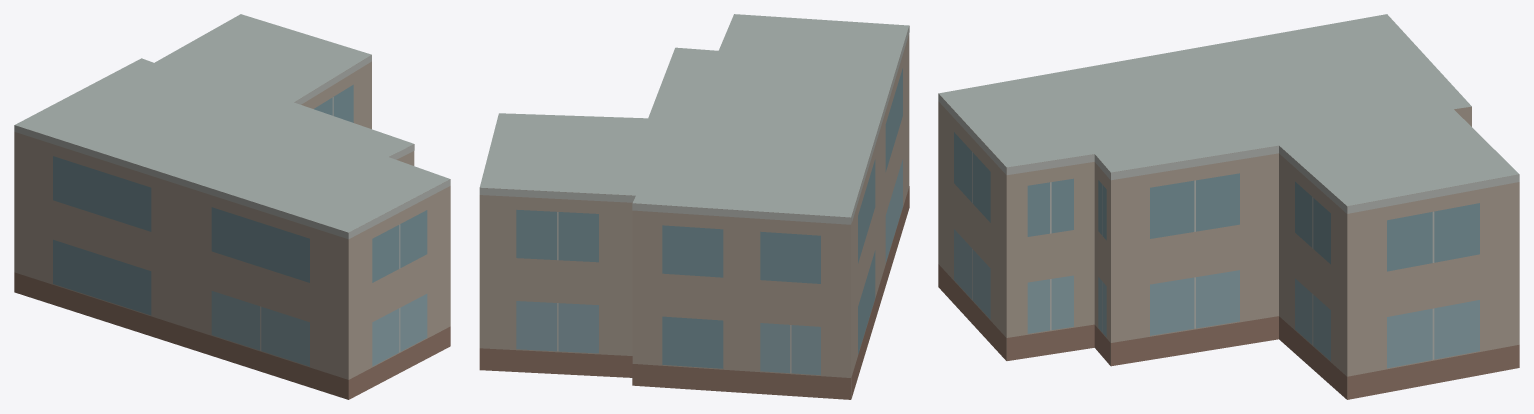
Rendered from survey-upis-32774253.glb.
The picture shows the model from 3 angles, left to right: view 1: azimuth 30°, elevation 25°; view 2: azimuth 150°, elevation 25°; view 3: azimuth 270°, elevation 25°; orthographic projection. The views are drawn at different scales.
Parts seen in each view (by area): view 1: survey-upis-32774253.tmp; view 2: survey-upis-32774253.tmp; view 3: survey-upis-32774253.tmp.
Boxes of the visible parts, bbox=[...] form: survey-upis-32774253.tmp: bbox=[14, 14, 450, 399]; survey-upis-32774253.tmp: bbox=[479, 14, 909, 399]; survey-upis-32774253.tmp: bbox=[938, 14, 1519, 399].
Bounding box in the file's own units: 13 × 6.1 × 16.6.
